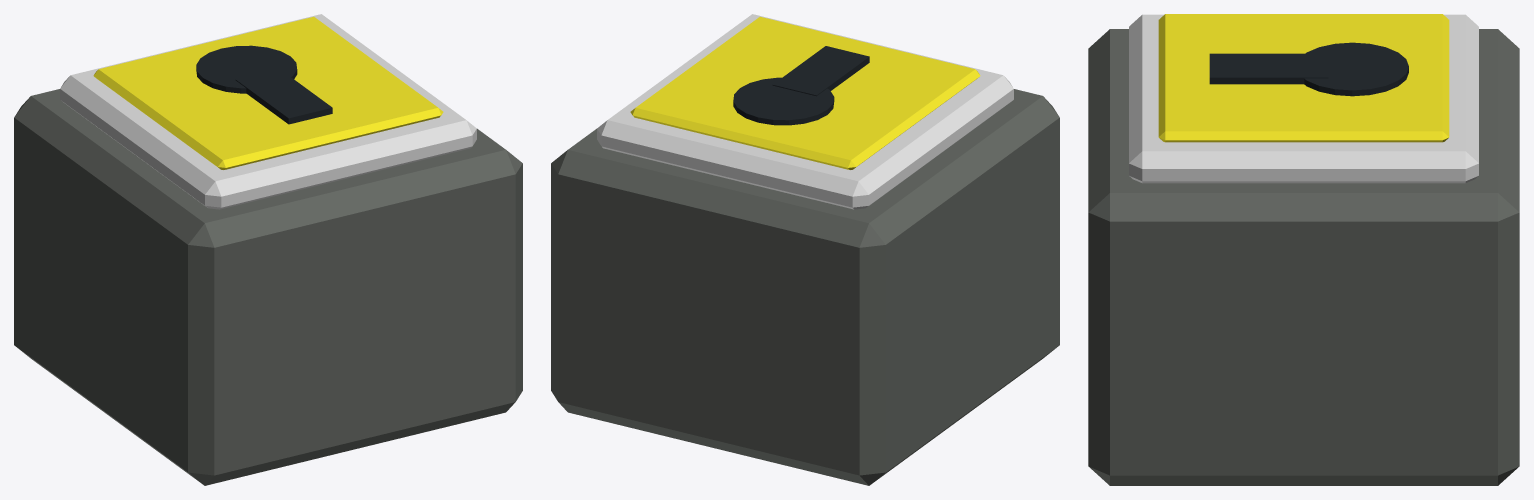
The model's file is door-yellow.glb.
3 renders of one model, left to right at view 1: azimuth 30°, elevation 25°; view 2: azimuth 150°, elevation 25°; view 3: azimuth 270°, elevation 25°, orthographic. The views are drawn at different scales.
Visible parts, largest first — view 1: door-yellow; view 2: door-yellow; view 3: door-yellow.
Boxes of the visible parts, bbox=[...] form: door-yellow: bbox=[14, 14, 522, 485]; door-yellow: bbox=[551, 14, 1059, 485]; door-yellow: bbox=[1088, 14, 1519, 485].
Size of the model in its own units: 0.8 by 0.693 by 0.8.
